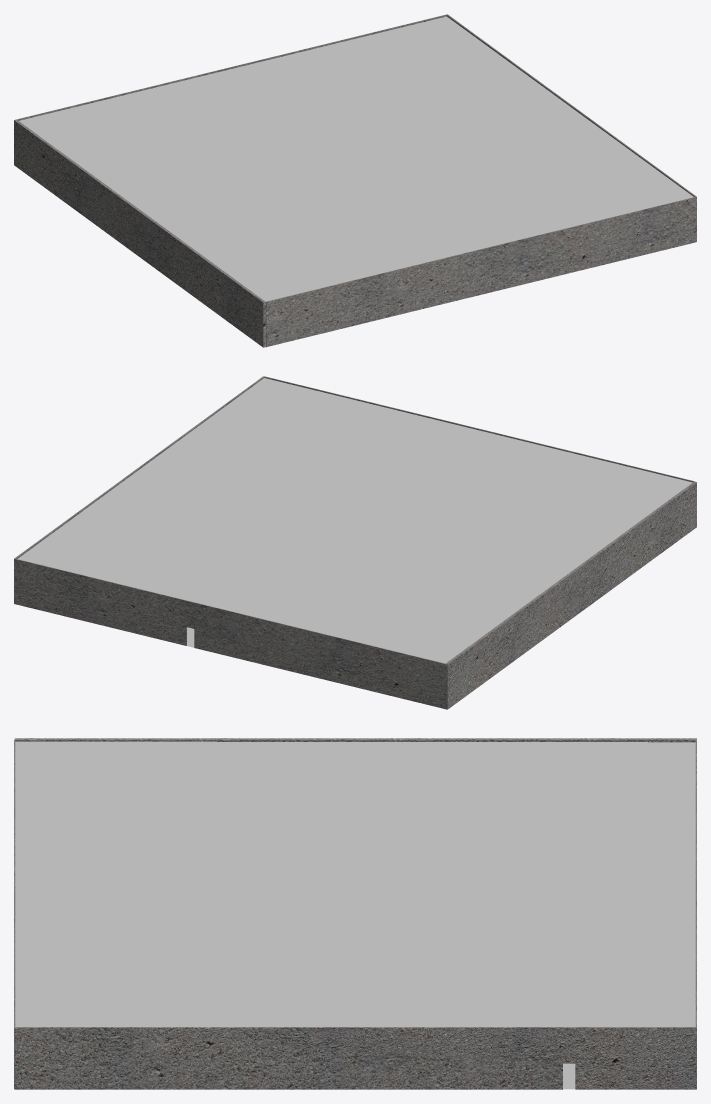
Rendered from Almacen.FBX.
3 renders of one model, top to bottom at view 1: azimuth 30°, elevation 25°; view 2: azimuth 150°, elevation 25°; view 3: azimuth 270°, elevation 25°, orthographic. The views are drawn at different scales.
Parts seen in each view (by area): view 1: Techo, Pared2, Pared1, Pared OP, Pared WC; view 2: Techo, Pared OP, Pared1, Pared2, Pared WC; view 3: Techo, Pared WC, Pared1, Pared OP, Pared2.
Part boxes in pixels (x1=…): Techo: x1=19, y1=16, x2=693, y2=301; Pared2: x1=266, y1=197, x2=696, y2=347; Pared1: x1=14, y1=119, x2=265, y2=347; Pared OP: x1=14, y1=14, x2=446, y2=125; Pared WC: x1=446, y1=14, x2=696, y2=241; Techo: x1=17, y1=378, x2=692, y2=663; Pared OP: x1=14, y1=558, x2=447, y2=709; Pared1: x1=445, y1=481, x2=696, y2=709; Pared2: x1=264, y1=376, x2=694, y2=482; Pared WC: x1=14, y1=376, x2=264, y2=603; Techo: x1=15, y1=741, x2=695, y2=1026; Pared WC: x1=14, y1=1027, x2=696, y2=1089; Pared1: x1=14, y1=738, x2=696, y2=742; Pared OP: x1=695, y1=738, x2=696, y2=1088; Pared2: x1=14, y1=740, x2=15, y2=1089.
Bounding box in the file's own units: 5022 × 500 × 5006.
